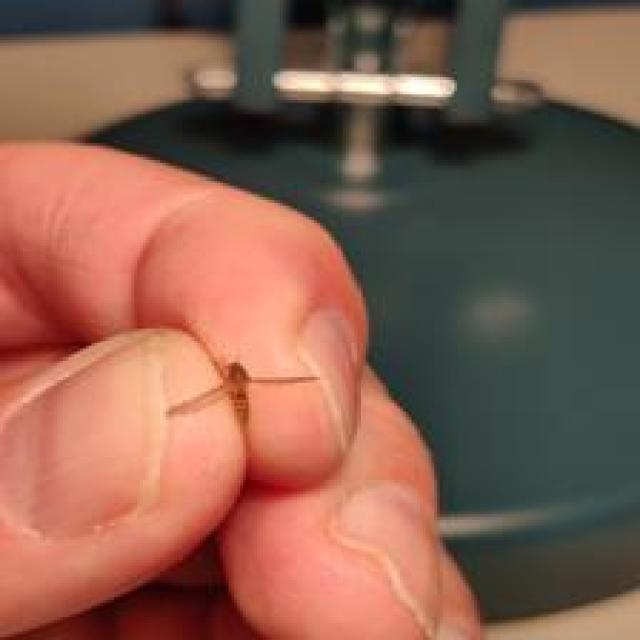Culex: (165, 359, 322, 430)
